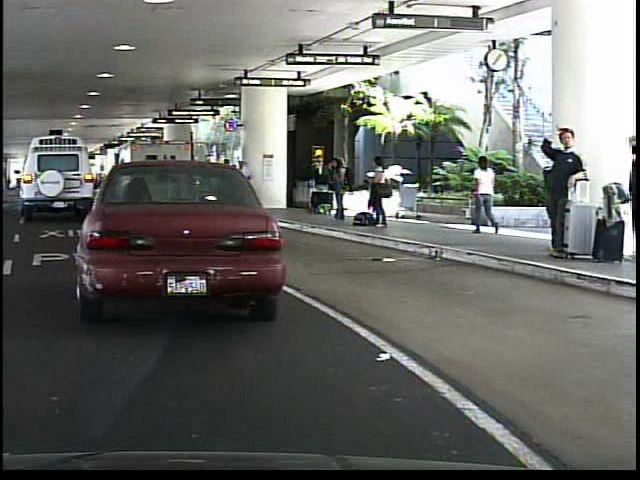person: (535, 120, 586, 261), (464, 154, 502, 236), (362, 155, 389, 229), (627, 126, 639, 269)
